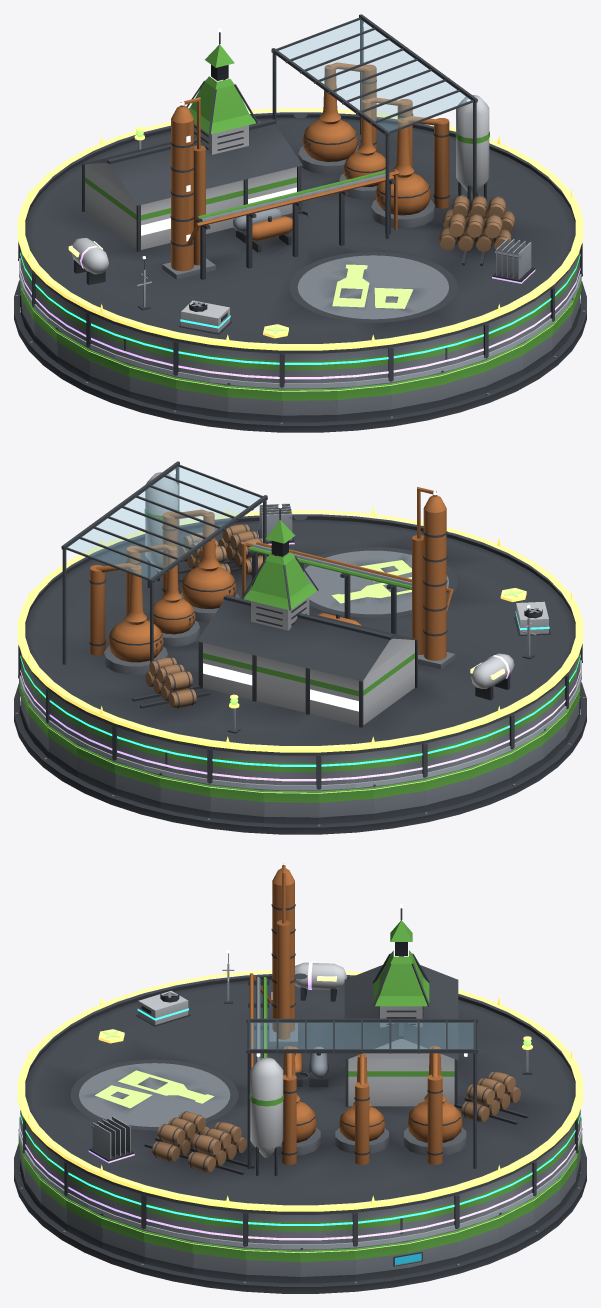
File: distillery_l.glb
3 renders of one model, top to bottom at view 1: azimuth 30°, elevation 25°; view 2: azimuth 150°, elevation 25°; view 3: azimuth 270°, elevation 25°, orthographic.
Parts seen in each view (by area): view 1: Roof, Base, L4, Wall_21, Wall_20, Wall_22, Wall_19, Wall_23, Wall_18, Wall_24, Upper_22, Upper_21 (+18 smaller); view 2: Roof, Base, L4, Wall_10, Wall_11, Wall_09, Wall_12, Wall_08, Wall_13, Wall_07, Upper_09, Upper_10 (+21 smaller); view 3: Roof, Base, L4, Wall_00, Wall_31, Wall_30, Wall_01, Wall_29, Wall_02, Upper_00, Upper_31, Wall_28 (+19 smaller).
Part boxes in pixels (x1,y1,x2,y2): Roof: (24,14,576,353); Base: (14,280,586,432); L4: (68,238,535,284); Wall_21: (282,387,337,422); Wall_20: (227,383,281,422); Wall_22: (337,382,390,421); Wall_19: (176,376,227,418); Wall_23: (390,372,441,415); Wall_18: (129,364,176,409); Wall_24: (440,359,486,406); Upper_22: (337,347,391,382); Upper_21: (282,352,336,386); Roof: (24,461,576,755); Base: (14,682,586,834); L4: (257,503,514,700); Wall_10: (263,789,318,824); Wall_11: (319,786,373,823); Wall_09: (210,784,263,822); Wall_12: (373,778,424,819); Wall_08: (159,773,210,817); Wall_13: (424,766,471,811); Wall_07: (114,761,160,807); Upper_09: (209,749,263,784); Upper_10: (264,754,318,788); Roof: (24,863,576,1214); Base: (14,1143,586,1293); L4: (88,962,347,1163); Wall_00: (300,1247,355,1283); Wall_31: (245,1247,300,1283); Wall_30: (192,1240,245,1281); Wall_01: (355,1240,408,1281); Wall_29: (144,1230,193,1274); Wall_02: (407,1230,456,1274); Upper_00: (300,1213,355,1246); Upper_31: (245,1213,300,1246); Wall_28: (101,1213,144,1263).
Size of the model in its own units: 18.96 by 9.27 by 18.96.
